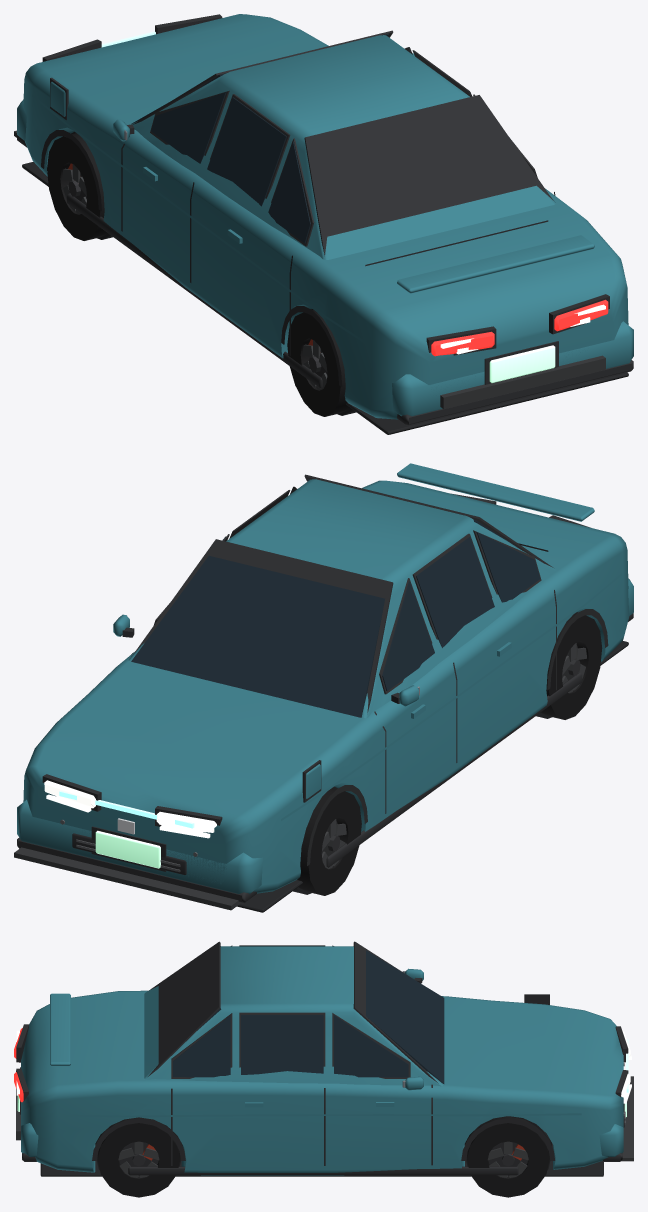
Rendered from car_nev_sport_blue.glb.
3 views of the same model, one above another, from view 1: azimuth 30°, elevation 25°; view 2: azimuth 150°, elevation 25°; view 3: azimuth 270°, elevation 25° (orthographic). The views are drawn at different scales.
Visible parts, largest first — view 1: Body, Trim, Glass, Wheel_FL, Wheel_RL, Lights, Plate_R; view 2: Body, Glass, Trim, Wheel_FL, Wheel_RL, Lights, Plate_F; view 3: Body, Glass, Trim, Wheel_FR, Wheel_RR, Lights.
Boxes of the visible parts, bbox=[...] form: Body: bbox=[17, 14, 633, 419]; Trim: bbox=[14, 14, 633, 434]; Glass: bbox=[124, 34, 513, 243]; Wheel_FL: bbox=[47, 133, 107, 240]; Wheel_RL: bbox=[287, 310, 350, 416]; Lights: bbox=[101, 31, 608, 356]; Plate_R: bbox=[489, 345, 555, 382]; Body: bbox=[17, 463, 633, 893]; Glass: bbox=[126, 479, 540, 717]; Trim: bbox=[14, 474, 633, 912]; Wheel_FL: bbox=[297, 788, 361, 895]; Wheel_RL: bbox=[541, 613, 602, 719]; Lights: bbox=[44, 780, 216, 838]; Plate_F: bbox=[95, 830, 160, 868]; Body: bbox=[21, 946, 623, 1175]; Glass: bbox=[173, 950, 444, 1087]; Trim: bbox=[16, 941, 633, 1176]; Wheel_FR: bbox=[467, 1116, 549, 1197]; Wheel_RR: bbox=[97, 1117, 180, 1197]; Lights: bbox=[14, 1028, 631, 1103].
Bounding box in the file's own units: 2.03 × 1.49 × 4.73.
